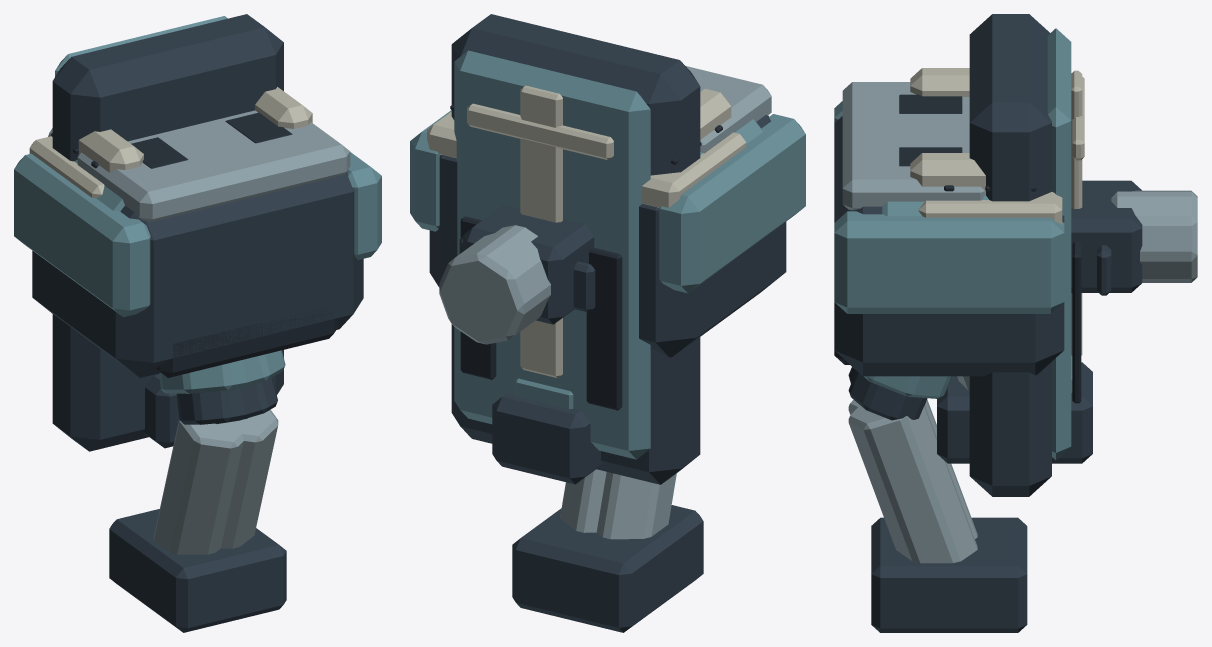
Rendered from bulwark.glb.
The picture shows the model from 3 angles, left to right: view 1: azimuth 30°, elevation 25°; view 2: azimuth 150°, elevation 25°; view 3: azimuth 270°, elevation 25°; orthographic projection. The views are drawn at different scales.
Visible parts, largest first — view 1: L0_Chassis, L0_Shield, L2_Hip0, L2_Hip1, L0_Turret, L0_Hip0, L0_Hip1, L0_Shin0; view 2: L0_Shield, L0_Chassis, L2_Hip0, L0_Weapon, L0_Shin0, L2_Hip1, L0_Turret; view 3: L0_Chassis, L0_Shield, L2_Hip1, L0_Weapon, L0_Turret, L0_Shin0, L0_Hip1, L2_Hip0.
Part boxes in pixels (x1,y1,x2,y2): L0_Chassis: [14, 110, 381, 377]; L0_Shield: [52, 14, 283, 451]; L2_Hip0: [109, 419, 258, 632]; L2_Hip1: [212, 409, 286, 623]; L0_Turret: [78, 87, 312, 172]; L0_Hip0: [159, 360, 259, 424]; L0_Hip1: [215, 350, 285, 423]; L0_Shin0: [143, 374, 179, 448]; L0_Shield: [451, 14, 700, 484]; L0_Chassis: [410, 66, 805, 357]; L2_Hip0: [542, 472, 703, 632]; L0_Weapon: [439, 204, 594, 344]; L0_Shin0: [492, 378, 603, 484]; L2_Hip1: [512, 469, 606, 625]; L0_Turret: [700, 88, 731, 140]; L0_Chassis: [834, 82, 1111, 376]; L0_Shield: [969, 14, 1084, 496]; L2_Hip1: [848, 405, 1027, 632]; L0_Weapon: [1071, 180, 1197, 292]; L0_Turret: [899, 68, 985, 195]; L0_Shin0: [937, 356, 1092, 463]; L0_Hip1: [848, 365, 952, 420]; L2_Hip0: [848, 399, 1027, 552].
Size of the model in its own units: 0.7824 by 1.48 by 0.885.
